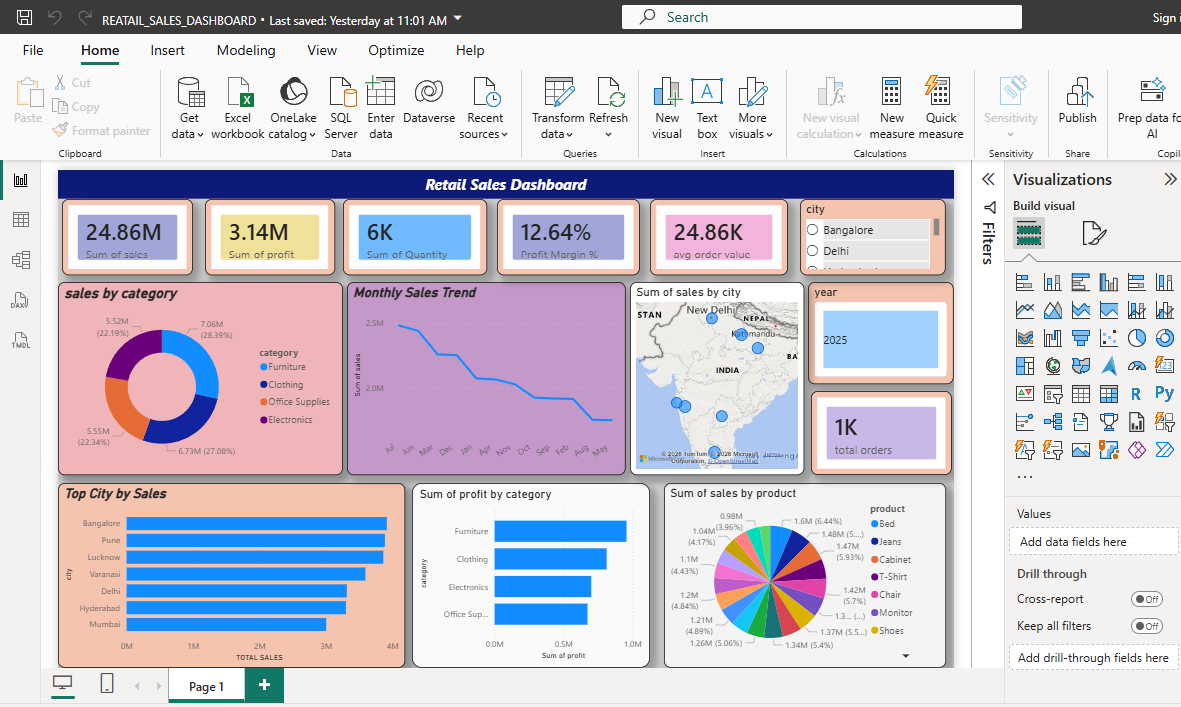

Layout of this report page (visuals, bound fields, positions):
{"tool":"powerbi","page":{"name":"Page 1","canvas":[1280,720],"ordinal":0},"visuals":[{"type":"textbox","box":[0,0,1279.8,41.1],"z":0},{"type":"cardVisual","fields":{"Data":["Sum(order_data v_sales_performance.sales)"]},"box":[5.7,41.1,187.1,109.1],"z":1000},{"type":"cardVisual","fields":{"Data":["Sum(order_data v_sales_performance.profit)"]},"box":[209.8,41.1,185.7,109.1],"z":2000},{"type":"cardVisual","fields":{"Data":["Sum(order_data v_sales_performance.Quantity)"]},"box":[406.8,41.1,205.5,109.1],"z":3000},{"type":"donutChart","title":" sales by category","fields":{"Category":["order_data v_sales_performance.category"],"Y":["Sum(order_data v_sales_performance.sales)"]},"box":[0,160.2,406.8,276.4],"z":4000},{"type":"clusteredBarChart","title":"Top City by Sales","fields":{"Category":["order_data v_sales_performance.city"],"Y":["Sum(order_data v_sales_performance.sales)"]},"box":[0,446.5,496.1,263.6],"z":5000},{"type":"lineChart","title":"Monthly Sales Trend","fields":{"Category":["order_data v_sales_performance.month"],"Y":["Sum(order_data v_sales_performance.sales)"]},"box":[412.4,160.2,398.3,276.4],"z":6000},{"type":"cardVisual","fields":{"Data":["order_data v_sales_performance.Profit Margin %"]},"box":[626.5,41.1,204.1,109.1],"z":7000},{"type":"advancedSlicerVisual","fields":{"Values":["order_data v_sales_performance.year"]},"box":[1071.5,160.2,208.3,146],"z":8000},{"type":"listSlicer","fields":{"Values":["order_data v_sales_performance.city"]},"box":[1060.2,41.1,208.3,109.1],"z":9000},{"type":"cardVisual","fields":{"Data":["order_data v_sales_performance.avg order value"]},"box":[846.1,41.1,197,109.1],"z":10000},{"type":"clusteredBarChart","fields":{"Category":["order_data v_sales_performance.category"],"Y":["Sum(order_data v_sales_performance.profit)"]},"box":[506,446.5,340.2,263.6],"z":11000},{"type":"pieChart","fields":{"Category":["order_data v_sales_performance.product"],"Y":["Sum(order_data v_sales_performance.sales)"]},"box":[866,446.5,402.5,263.6],"z":12000},{"type":"map","fields":{"Category":["order_data v_sales_performance.city"],"Size":["Sum(order_data v_sales_performance.sales)"]},"box":[817.8,160.2,249.4,276.4],"z":13000},{"type":"cardVisual","fields":{"Data":["order_data v_sales_performance.total orders"]},"box":[1075.7,316.1,201.3,120.5],"z":13001}]}

Visuals, with their boxes on the page's 1280x720 design canvas (x1, y1, x2, y2). These are canvas units, not pixel positions in the 1181x707 screenshot, which may show the page scaled, cropped or inside an application window:
textbox: [x1=0, y1=0, x2=1280, y2=41]
cardVisual - Sum(order_data v_sales_performance.sales): [x1=6, y1=41, x2=193, y2=150]
cardVisual - Sum(order_data v_sales_performance.profit): [x1=210, y1=41, x2=396, y2=150]
cardVisual - Sum(order_data v_sales_performance.Quantity): [x1=407, y1=41, x2=612, y2=150]
" sales by category" donutChart: [x1=0, y1=160, x2=407, y2=437]
"Top City by Sales" clusteredBarChart: [x1=0, y1=446, x2=496, y2=710]
"Monthly Sales Trend" lineChart: [x1=412, y1=160, x2=811, y2=437]
cardVisual - order_data v_sales_performance.Profit Margin %: [x1=626, y1=41, x2=831, y2=150]
advancedSlicerVisual - order_data v_sales_performance.year: [x1=1072, y1=160, x2=1280, y2=306]
listSlicer - order_data v_sales_performance.city: [x1=1060, y1=41, x2=1268, y2=150]
cardVisual - order_data v_sales_performance.avg order value: [x1=846, y1=41, x2=1043, y2=150]
clusteredBarChart - order_data v_sales_performance.category x Sum(order_data v_sales_performance.profit): [x1=506, y1=446, x2=846, y2=710]
pieChart - order_data v_sales_performance.product x Sum(order_data v_sales_performance.sales): [x1=866, y1=446, x2=1268, y2=710]
map - order_data v_sales_performance.city x Sum(order_data v_sales_performance.sales): [x1=818, y1=160, x2=1067, y2=437]
cardVisual - order_data v_sales_performance.total orders: [x1=1076, y1=316, x2=1277, y2=437]
